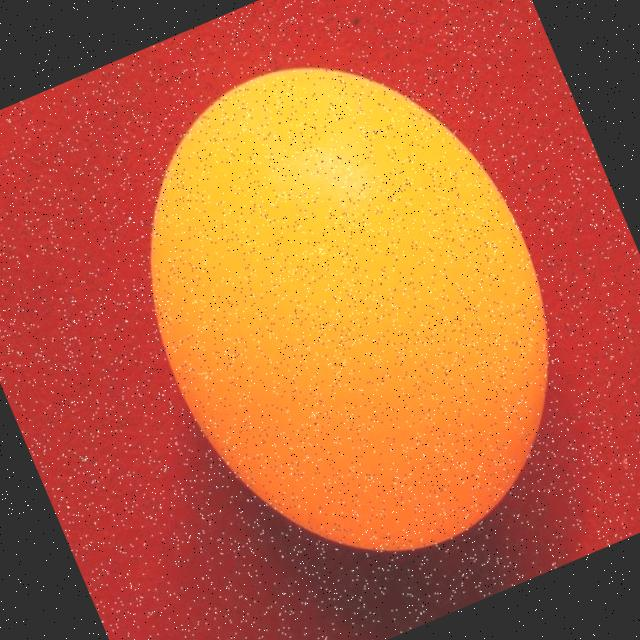ping-pong-ball: (72, 3, 634, 626)
